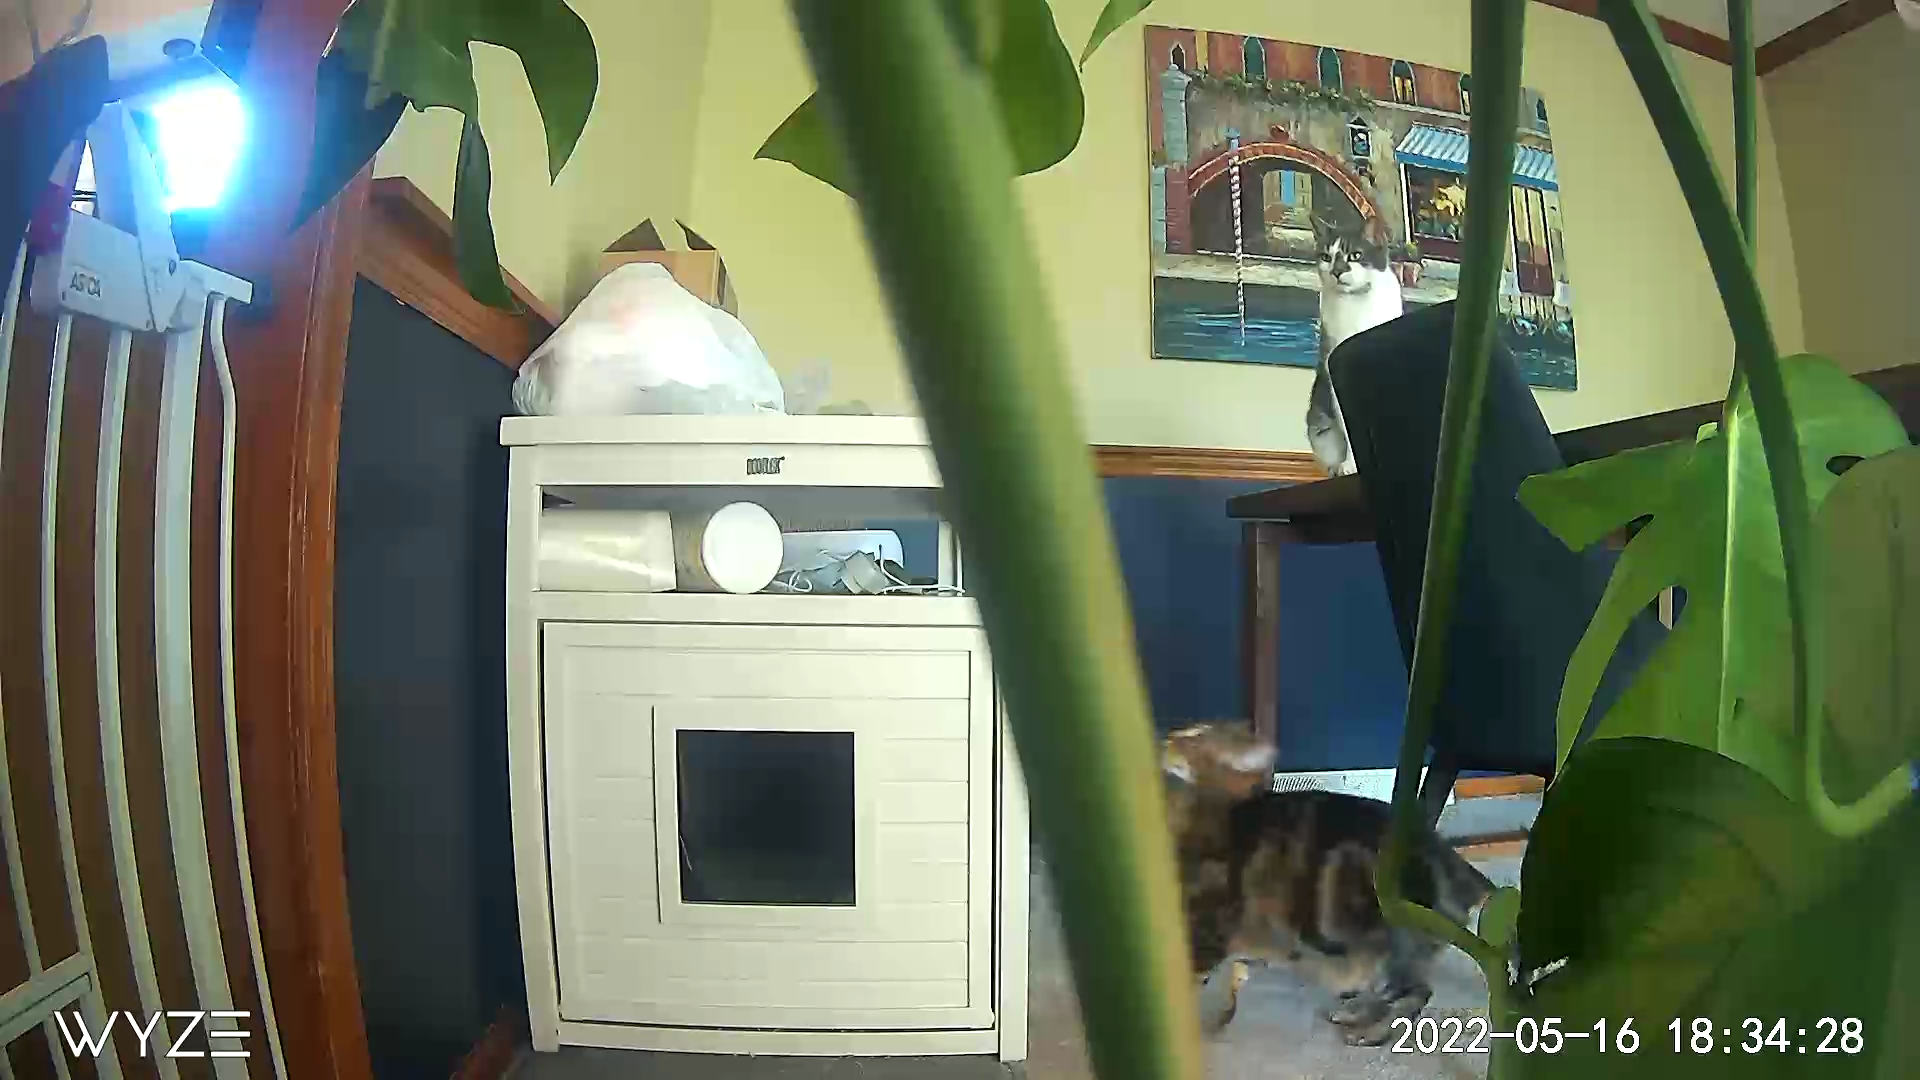sparky: (1156, 712, 1448, 981)
